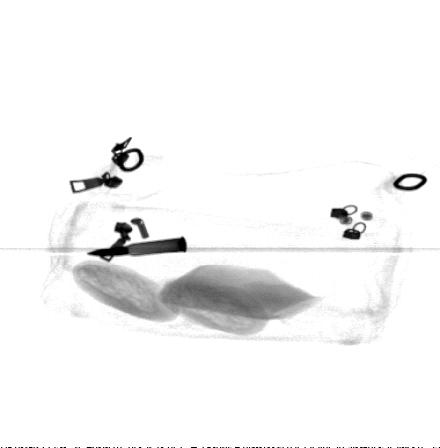Bullet: (83, 237, 188, 256)
